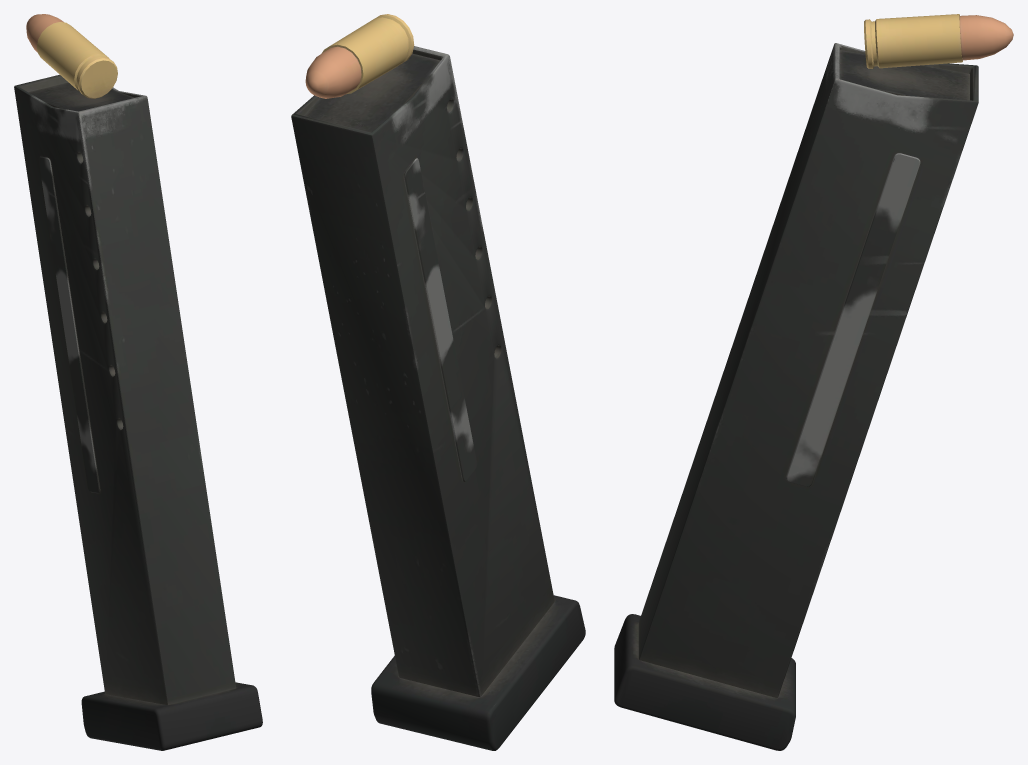
Rendered from carregador_9mm_estendido.glb.
3 views of the same model, side by side, from view 1: azimuth 30°, elevation 25°; view 2: azimuth 150°, elevation 25°; view 3: azimuth 270°, elevation 25° (orthographic). The views are drawn at different scales.
Parts seen in each view (by area): view 1: carregador_9mm_estendido_carregador; view 2: carregador_9mm_estendido_carregador; view 3: carregador_9mm_estendido_carregador.
Boxes of the visible parts, box(x1,y1,x2,y2) form: carregador_9mm_estendido_carregador: box(14, 14, 262, 750); carregador_9mm_estendido_carregador: box(291, 14, 585, 750); carregador_9mm_estendido_carregador: box(614, 14, 1013, 750).
Size of the model in its own units: 0.0256 by 0.1557 by 0.0796.
1 material, 1 textured.
